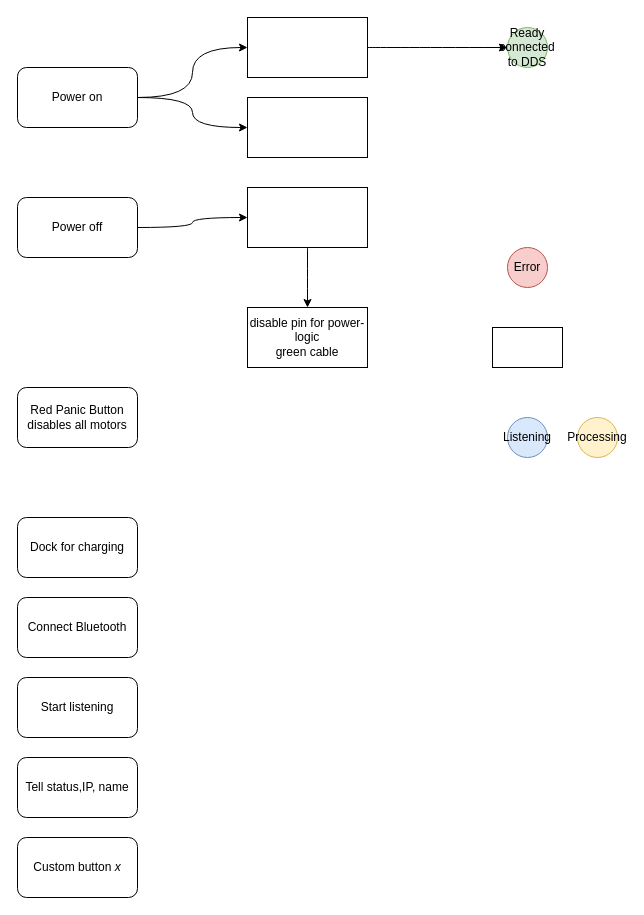
This 644x915 diagram has some shape labels left out. Each missing label, with the centre of its shape:
Boot RPI - start ROS nodes: the point at 307,47
poweroff: the point at 307,217
Start Arduino: the point at 307,127
voltage LCD: the point at 527,347
